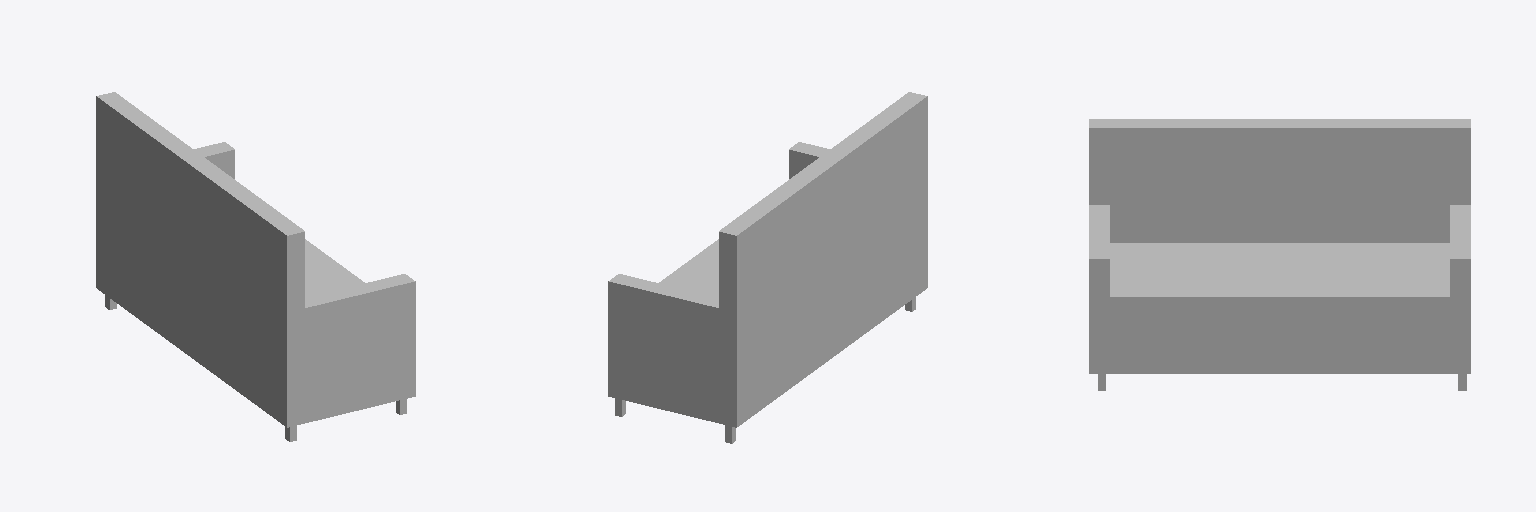
The model's file is Sofa.obj.
The picture shows the model from 3 angles: view 1: azimuth 30°, elevation 25°; view 2: azimuth 150°, elevation 25°; view 3: azimuth 270°, elevation 25°; orthographic projection.
Parts seen in each view (by area): view 1: Sofa_Cube.004; view 2: Sofa_Cube.004; view 3: Sofa_Cube.004.
Boxes of the visible parts, box(x1,y1,x2,y2) form: Sofa_Cube.004: box(96, 92, 415, 427); Sofa_Cube.004: box(608, 92, 927, 427); Sofa_Cube.004: box(1089, 119, 1470, 373).
Bounding box in the file's own units: 3.5 × 5.5 × 9.